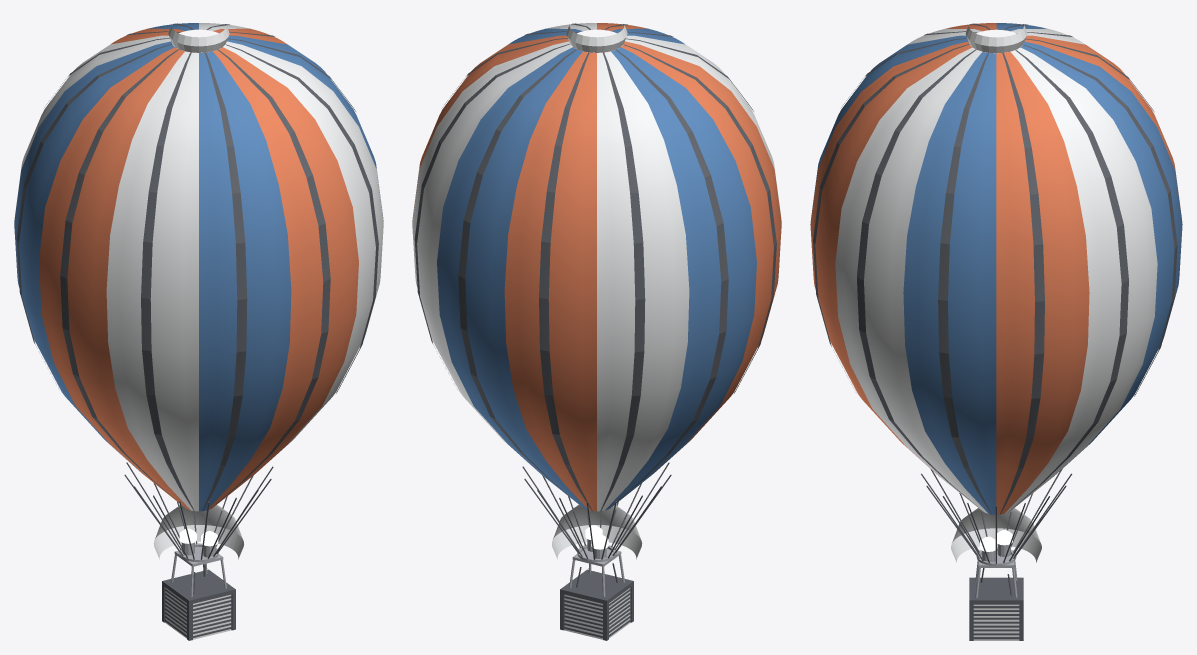
The model's file is aircraft-fleet-and-airfield-hot-air-balloon-8233cb1e__32813.glb.
The picture shows the model from 3 angles, left to right: view 1: azimuth 30°, elevation 25°; view 2: azimuth 150°, elevation 25°; view 3: azimuth 270°, elevation 25°; orthographic projection.
Visible parts, largest first — view 1: hot-air-balloon; view 2: hot-air-balloon; view 3: hot-air-balloon.
Boxes of the visible parts, left/top/right/bottom form: hot-air-balloon: left=14, top=23, right=383, bottom=640; hot-air-balloon: left=412, top=23, right=781, bottom=640; hot-air-balloon: left=810, top=23, right=1182, bottom=640.
Bounding box in the file's own units: 9.4 × 16.84 × 9.4.
